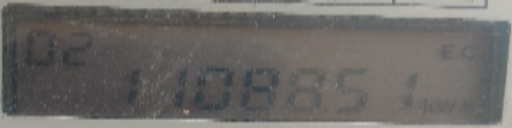0: (190, 60, 232, 113)
1: (122, 59, 145, 113), (171, 64, 190, 115), (402, 65, 419, 115)
5: (336, 61, 370, 114)
8: (278, 60, 329, 115), (232, 59, 278, 115)
d: (320, 105, 332, 116)
